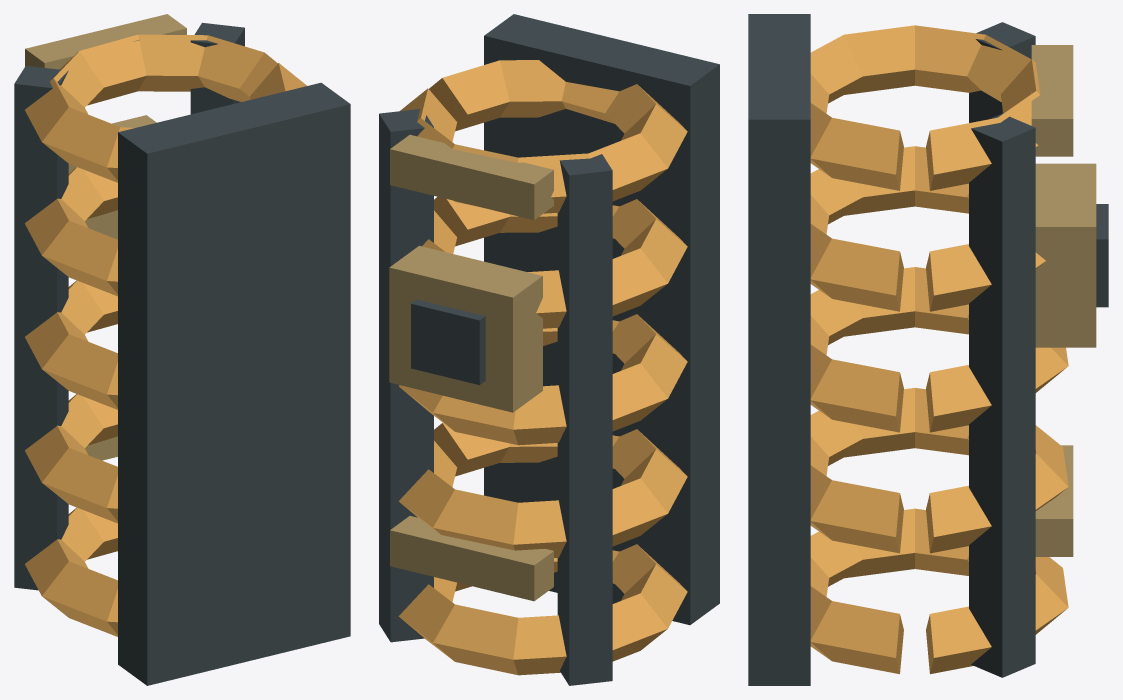
Rendered from Socket_730.fbx.
3 renders of one model, left to right at view 1: azimuth 30°, elevation 25°; view 2: azimuth 150°, elevation 25°; view 3: azimuth 270°, elevation 25°, orthographic. The views are drawn at different scales.
Visible parts, largest first — view 1: Socket_730; view 2: Socket_730; view 3: Socket_730.
Part boxes in pixels (x1,y1,x2,y2): Socket_730: (14, 14, 350, 685); Socket_730: (379, 14, 719, 685); Socket_730: (748, 14, 1108, 685).
Size of the model in its own units: 0.0757 by 0.15 by 0.0865.
